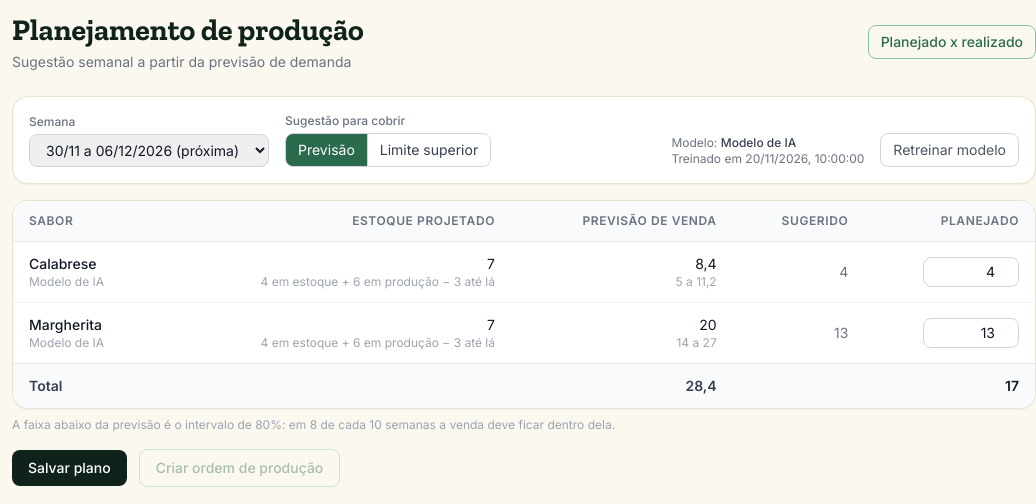
tela de planejamento de produção › "Limite superior" troca a sugestão para a ponta de cima da faixa
expect the text "Margherita" is shown: met, box [29,316,102,333]
What coordinates should you click on to do the following:
click the button "Limite superior"
I would click on:
 (428, 150)
Its box is [367,134,490,166].
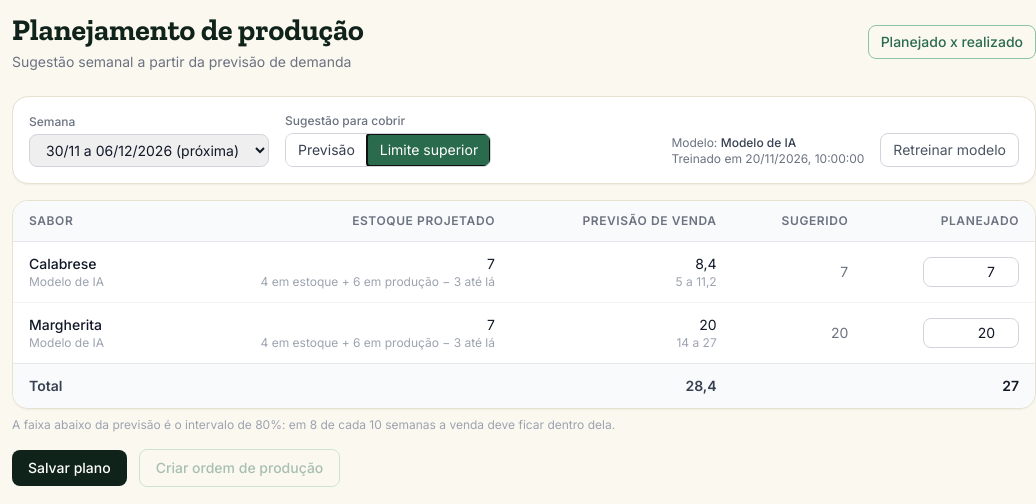
expect the number field in the row of "Margherita" holds "20": met, box [923,318,1019,348]
expect the number field in the row of "Calabrese" holds "7": met, box [923,257,1019,287]
expect the text "27" is shown: met, box [864,364,1035,408]
